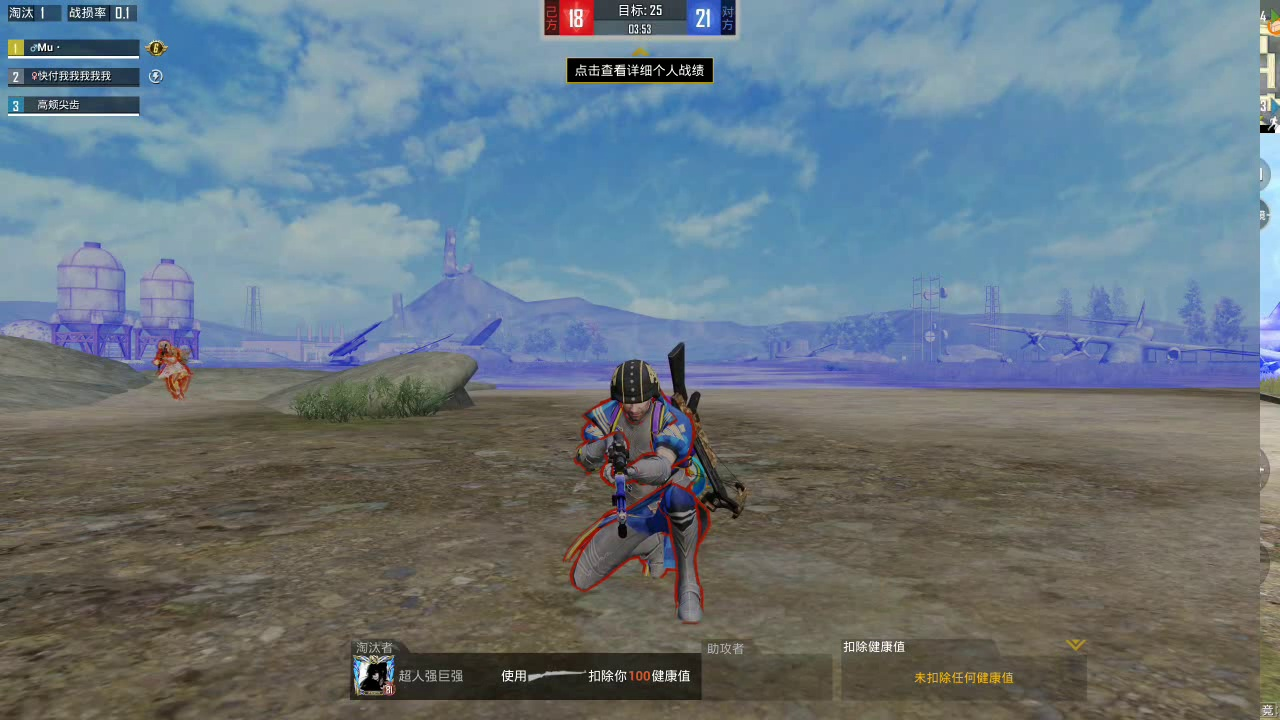enemy: (567, 355, 700, 609), (152, 339, 194, 397)
